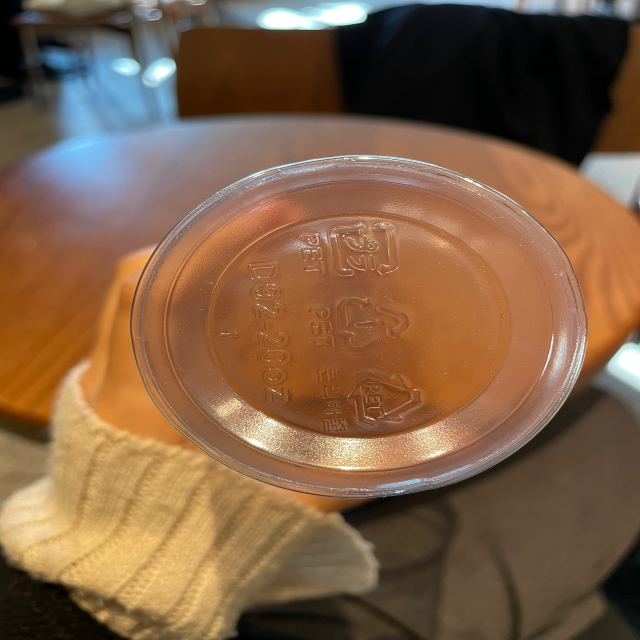pet: (312, 361, 428, 437), (307, 291, 418, 356), (298, 217, 404, 280)
